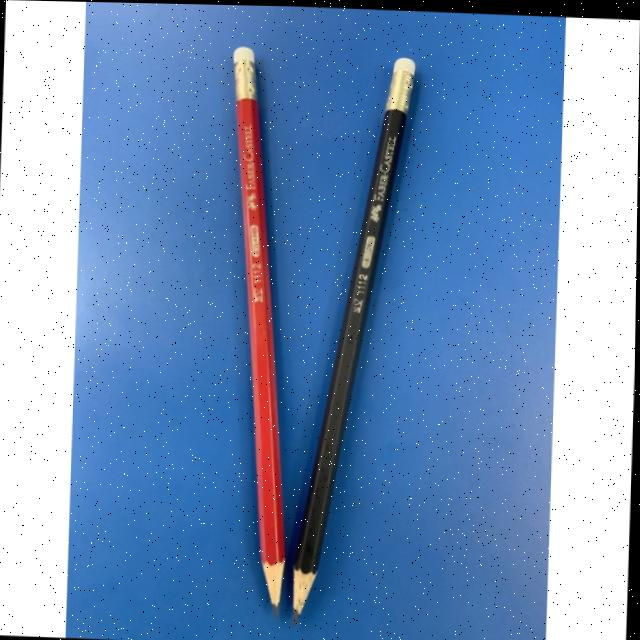pencil: (294, 53, 425, 623), (229, 38, 292, 619)
